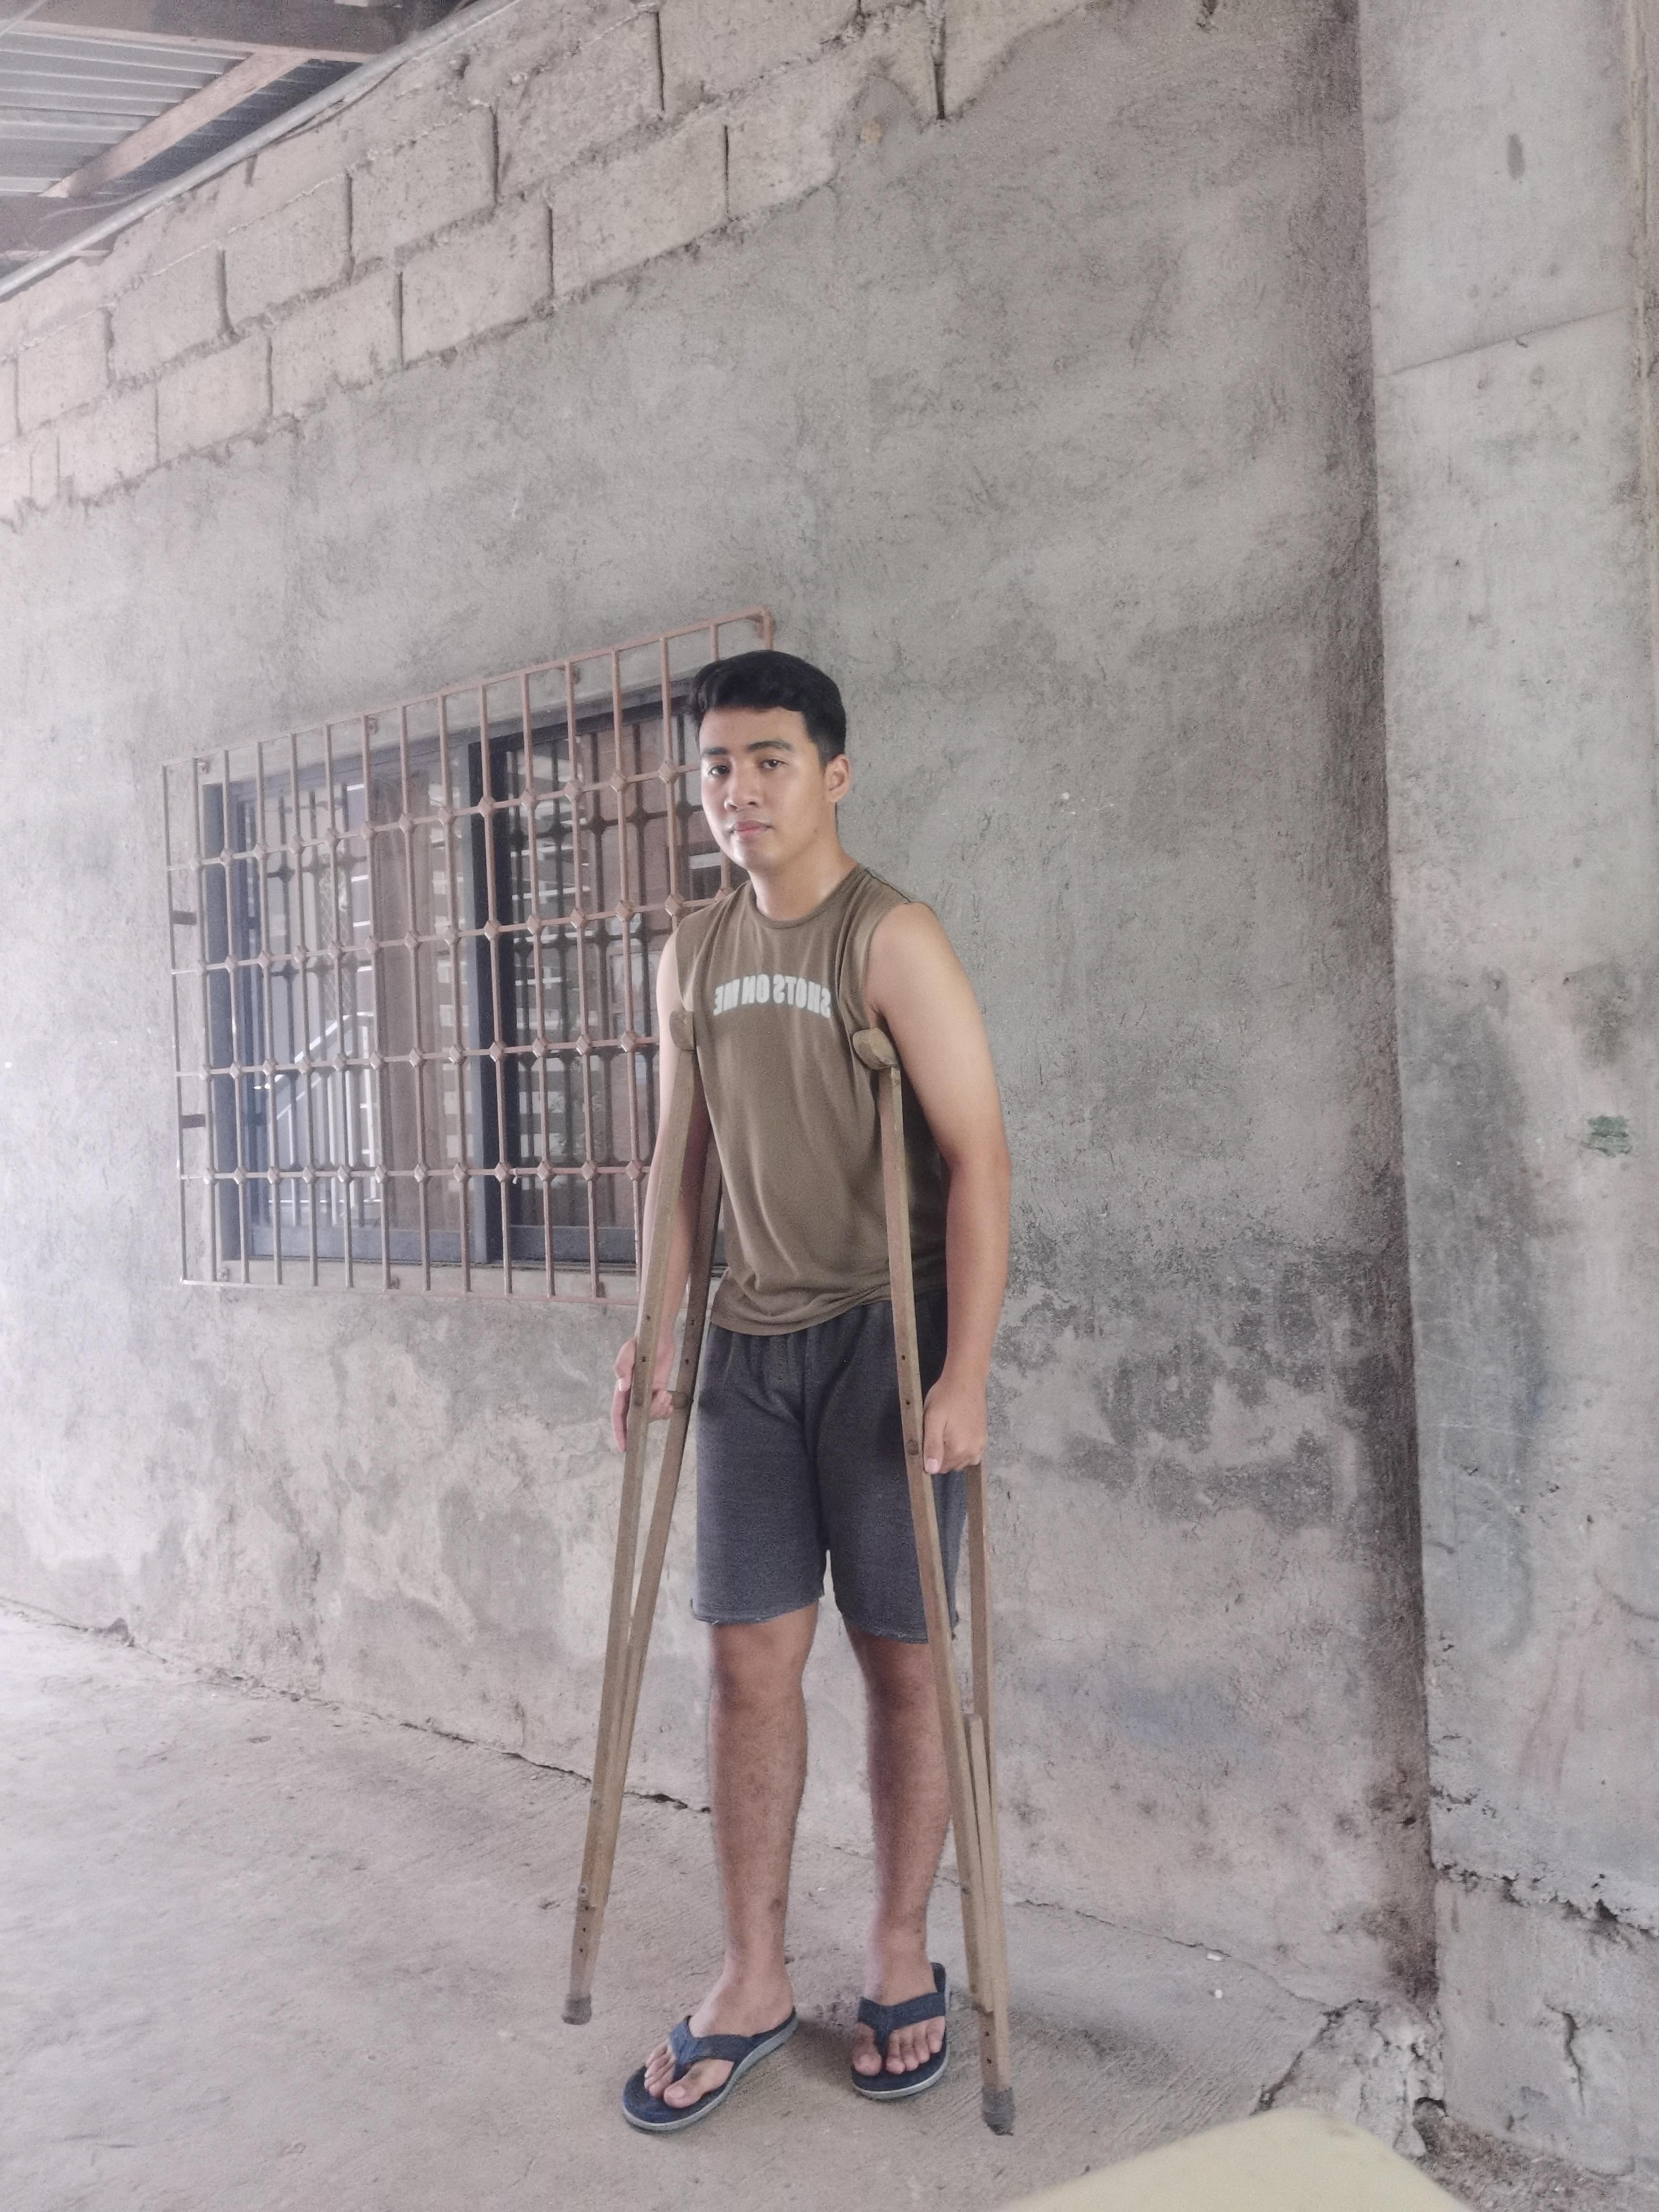crutches: (552, 639, 1044, 2161)
